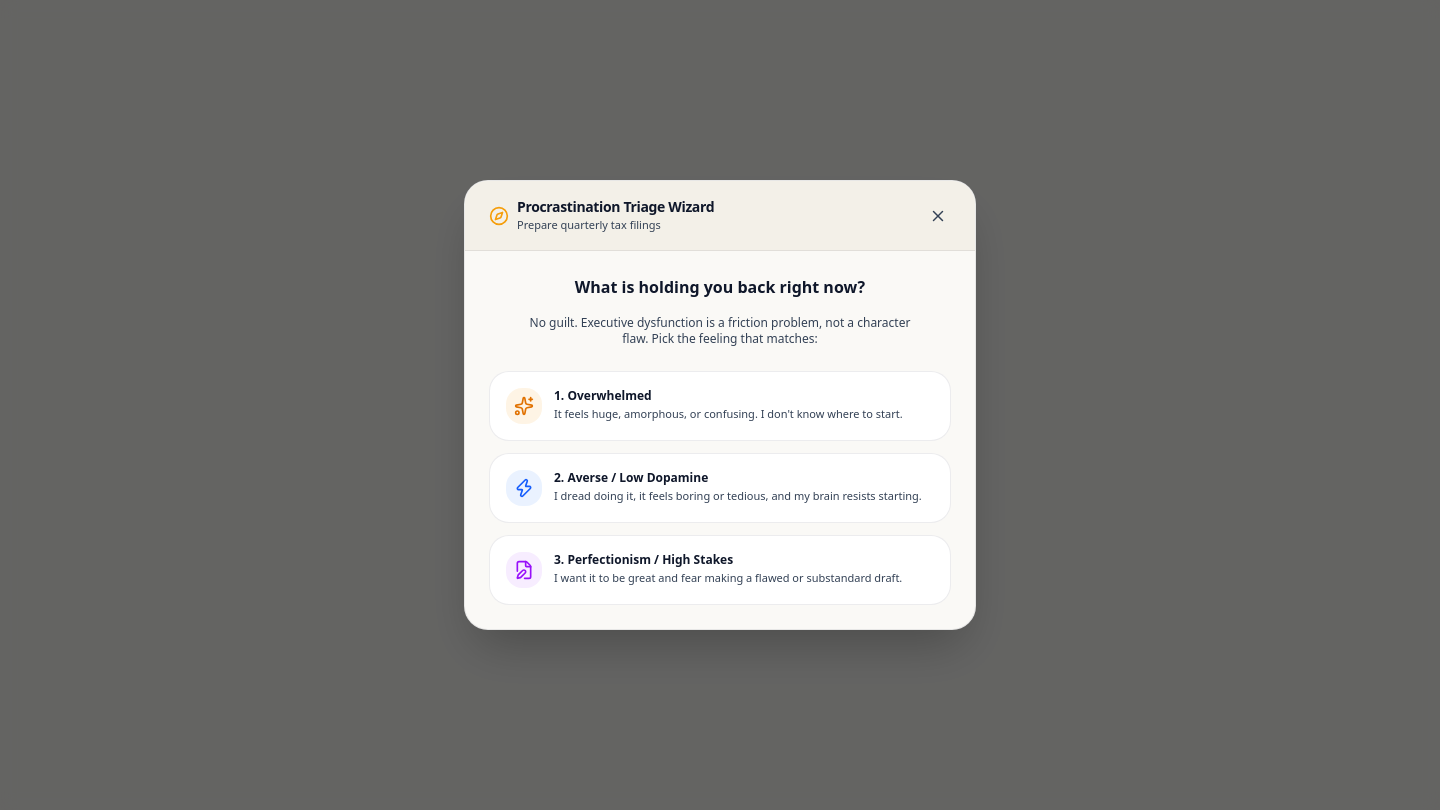
Scenario: ProcrastinationWizardModal › navigates to ugly first draft scratchpad and saves text
Click the button with test id "type-perfectionism-btn" at (720, 570), box [489, 535, 951, 605]
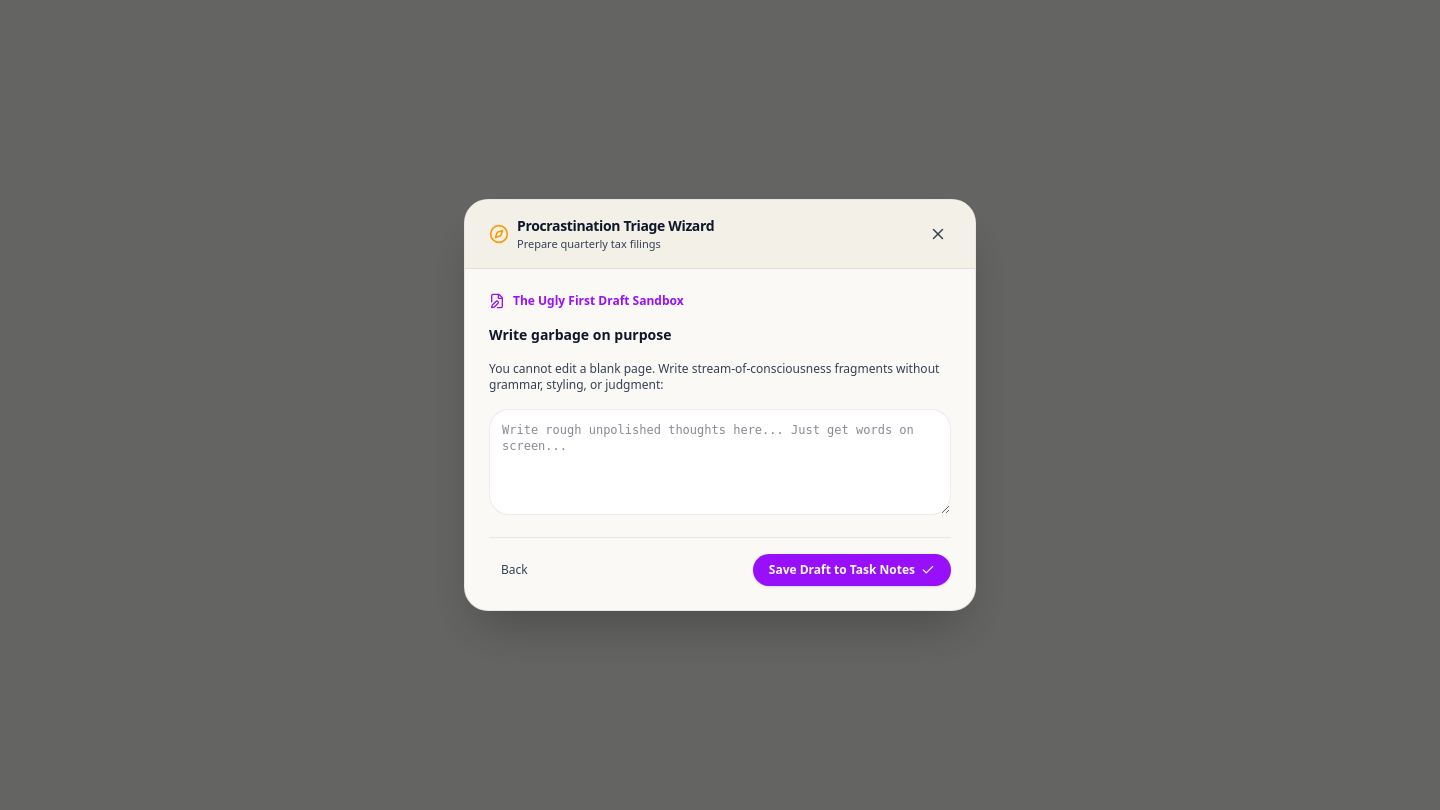
Check: the element with test id "wizard-intervention-perfectionism" is shown, box [489, 293, 951, 586]
Replace the text in the text box with test id "ugly-draft-textarea" with "Just raw disorganized ideas..." at (720, 462), box [489, 409, 951, 515]
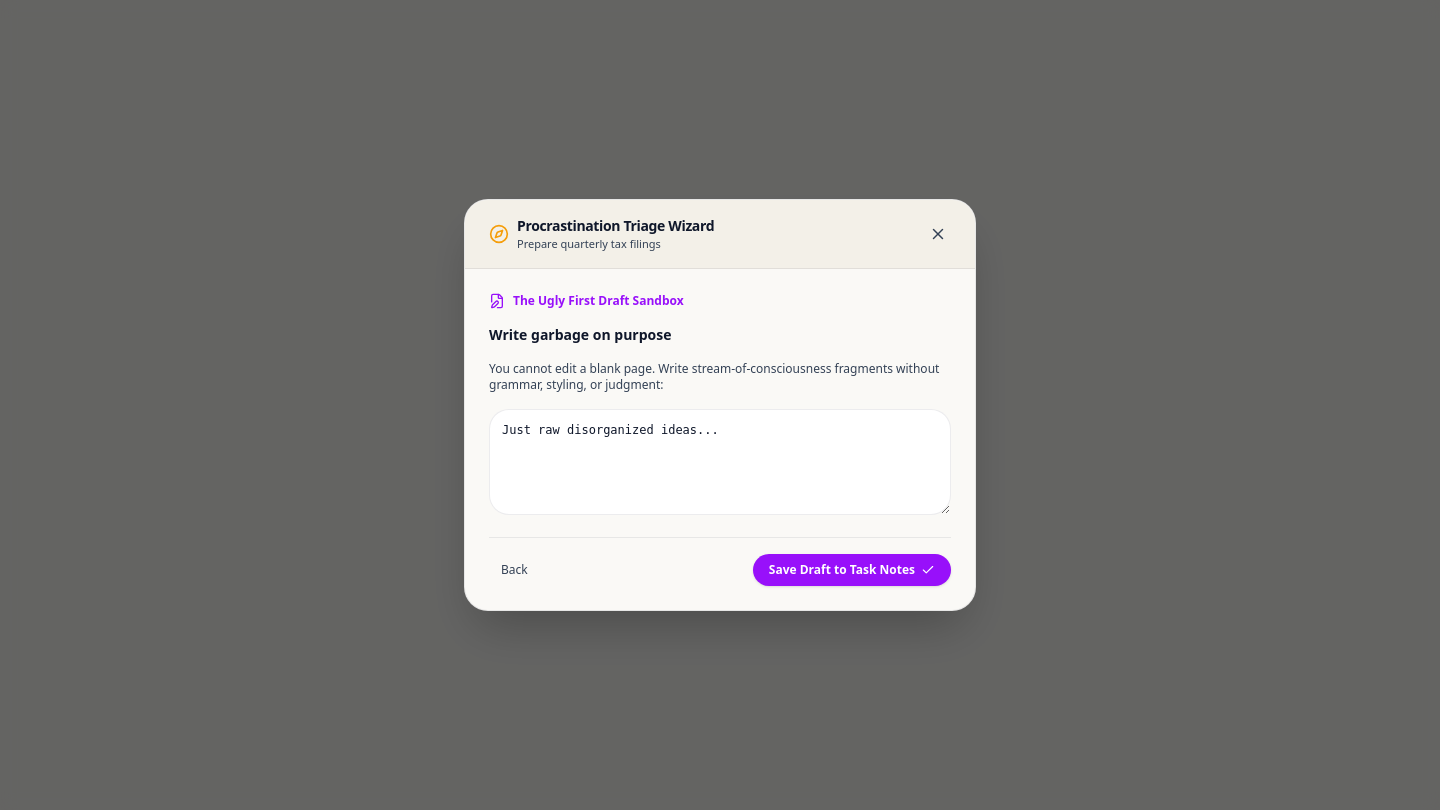
Click the button with test id "save-ugly-draft-btn" at (852, 570), box [753, 554, 951, 586]
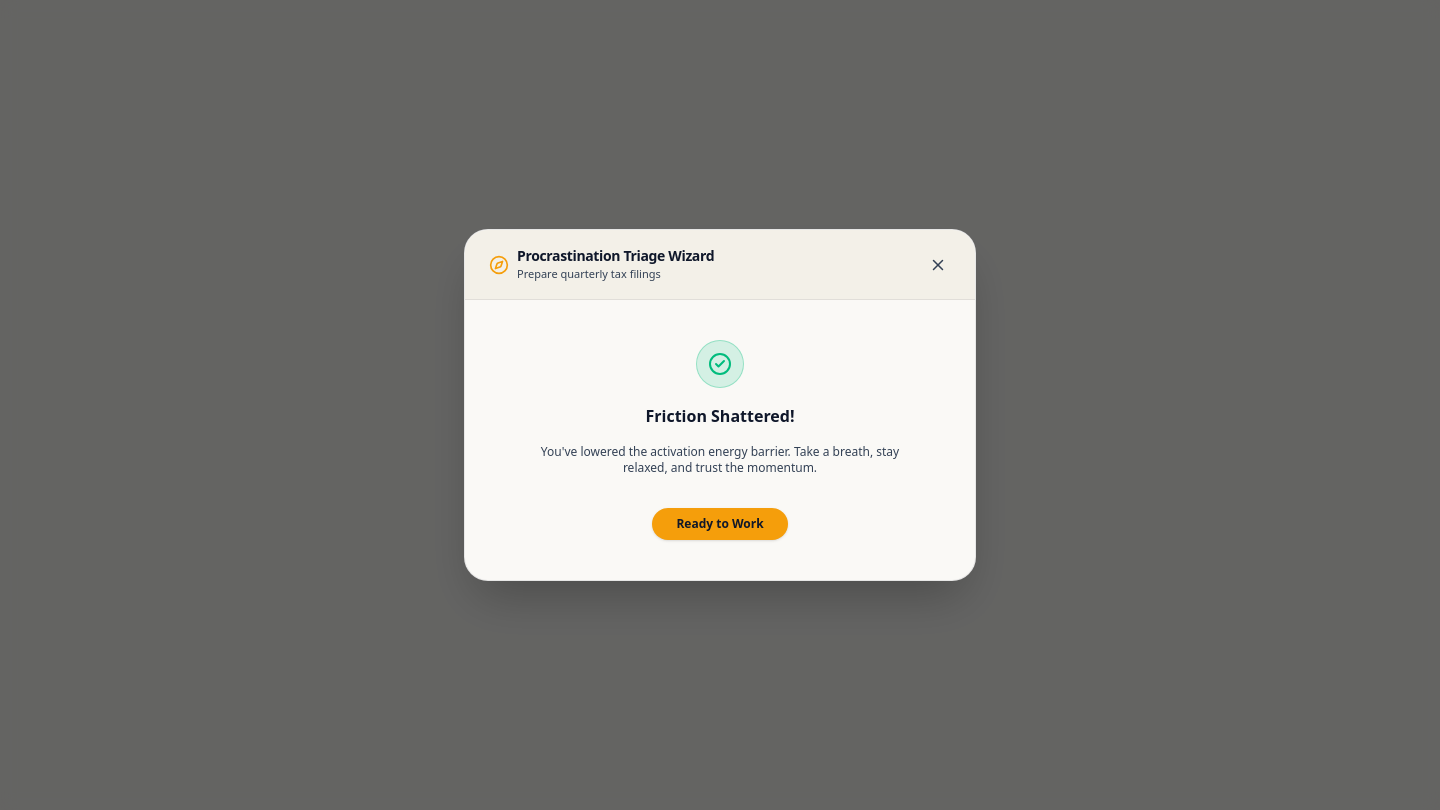
Check: the element with test id "wizard-step-3" is shown, box [541, 340, 899, 540]
